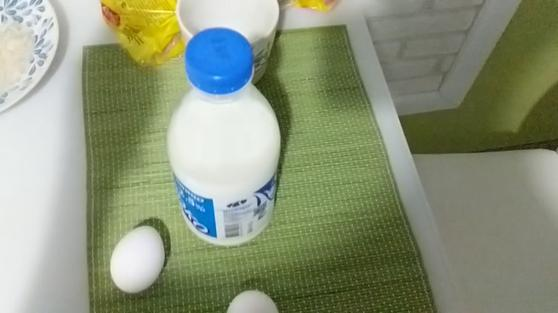egg: (106, 219, 170, 294), (226, 289, 278, 313)
milk: (162, 27, 288, 253)
rice: (1, 21, 36, 93)
